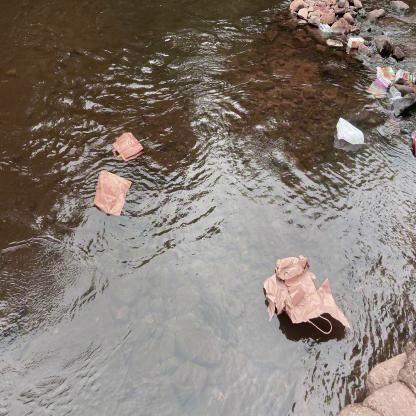Plastic: (331, 112, 371, 154)
Trash: (260, 252, 355, 344), (90, 171, 134, 220), (107, 127, 150, 169)
